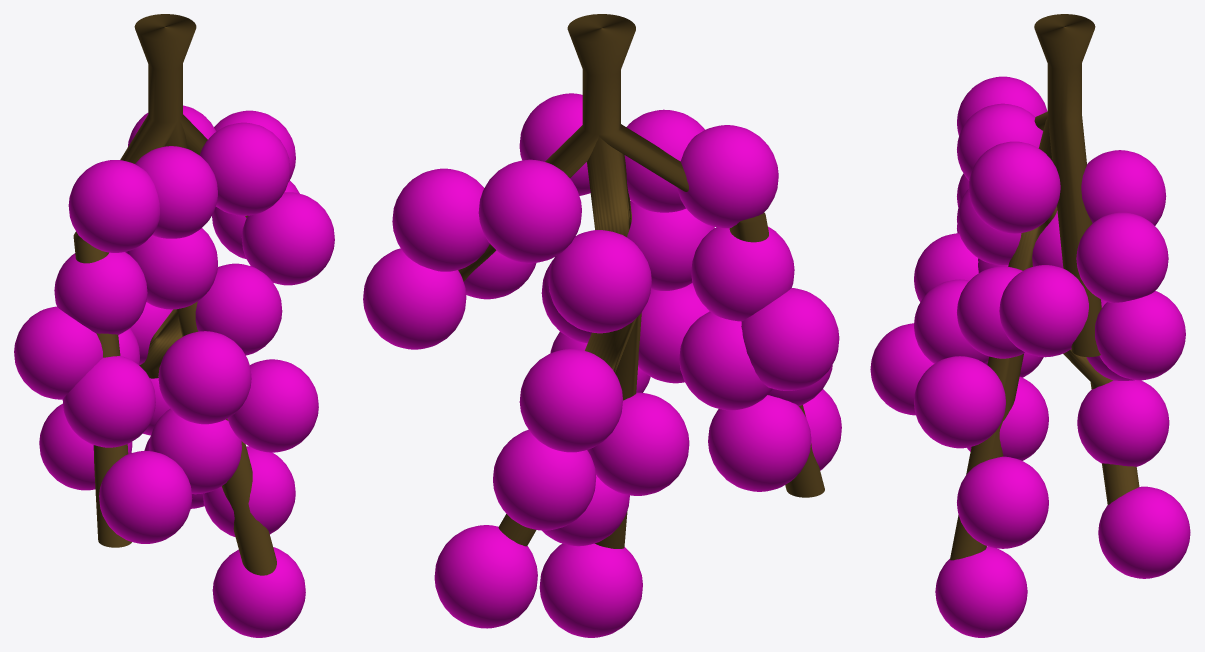
Rendered from grapes.glb.
3 views of the same model, side by side, from view 1: azimuth 30°, elevation 25°; view 2: azimuth 150°, elevation 25°; view 3: azimuth 270°, elevation 25° (orthographic). The views are drawn at different scales.
Visible parts, largest first — view 1: 円柱, 球.020, 球.010, 球.008, 球.006, 球.019, 球.009, 球.021, 球, 球.007, 球.004, 球.003 (+11 smaller); view 2: 円柱, 球.015, 球.012, 球.014, 球.013, 球.008, 球, 球.023, 球.005, 球.016, 球.022, 球.004 (+13 smaller); view 3: 円柱, 球.009, 球.021, 球.001, 球.013, 球.023, 球.022, 球.006, 球, 球.016, 球.015, 球.003 (+8 smaller).
Boxes of the visible parts, x1,y1,x2,y2 form: 円柱: (73, 14, 276, 575); 球.020: (158, 331, 251, 424); 球.010: (99, 451, 192, 543); 球.008: (68, 160, 159, 252); 球.006: (241, 192, 334, 285); 球.019: (62, 356, 155, 447); 球.009: (199, 122, 290, 215); 球.021: (227, 359, 318, 452); 球: (212, 547, 305, 637); 球.007: (54, 252, 147, 334); 球.004: (14, 306, 102, 399); 球.003: (195, 263, 282, 355); 円柱: (458, 14, 824, 548); 球.015: (478, 159, 581, 263); 球.012: (519, 349, 622, 452); 球.014: (548, 230, 651, 333); 球.013: (434, 525, 537, 628); 球.008: (677, 125, 778, 228); 球: (539, 543, 642, 637); 球.023: (392, 168, 489, 271); 球.005: (708, 395, 811, 491); 球.016: (363, 248, 466, 349); 球.022: (493, 430, 596, 530); 球.004: (741, 288, 839, 390); 円柱: (950, 14, 1139, 560); 球.009: (968, 141, 1060, 233); 球.021: (914, 356, 1005, 448); 球.001: (957, 456, 1048, 548); 球.013: (1098, 486, 1190, 578); 球.023: (1076, 212, 1168, 302); 球.022: (1077, 380, 1169, 466); 球.006: (999, 265, 1088, 357); 球: (935, 546, 1027, 637); 球.016: (1095, 291, 1185, 380); 球.015: (1081, 150, 1166, 225); 球.003: (957, 266, 1024, 358).
Size of the model in its own units: 4.9 by 7.92 by 3.95.
